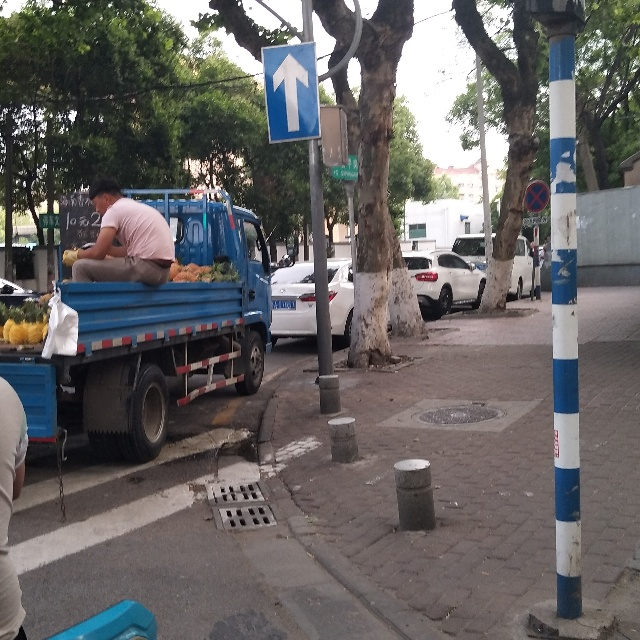stop: (523, 175, 553, 218)
straight: (260, 43, 324, 146)
